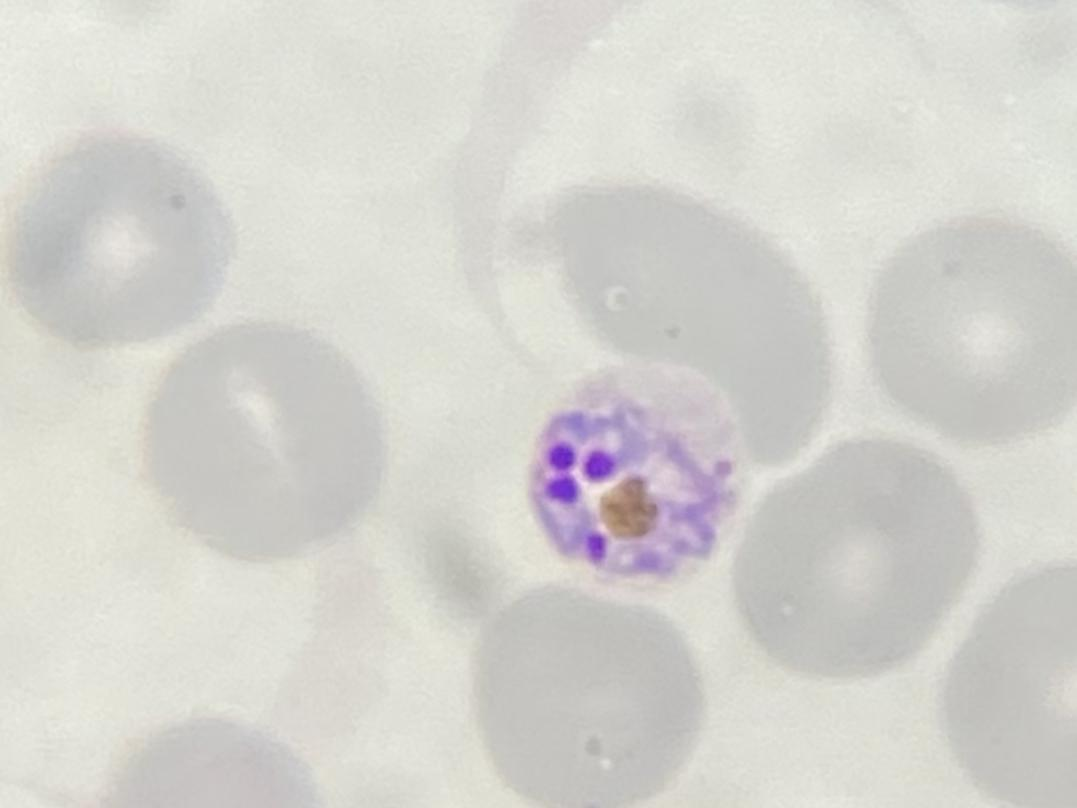Infected: (527, 366, 740, 580)
Uninfected: (554, 177, 837, 469), (734, 431, 982, 680), (139, 319, 388, 561), (471, 589, 703, 808), (6, 132, 233, 349), (866, 217, 1074, 442)
